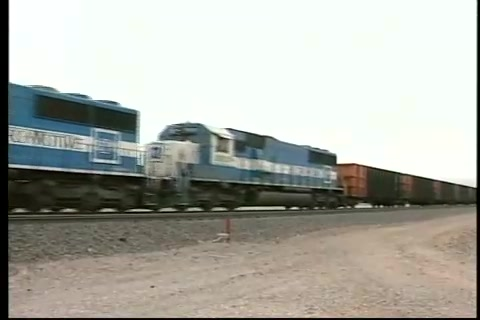train: (10, 79, 478, 215)
